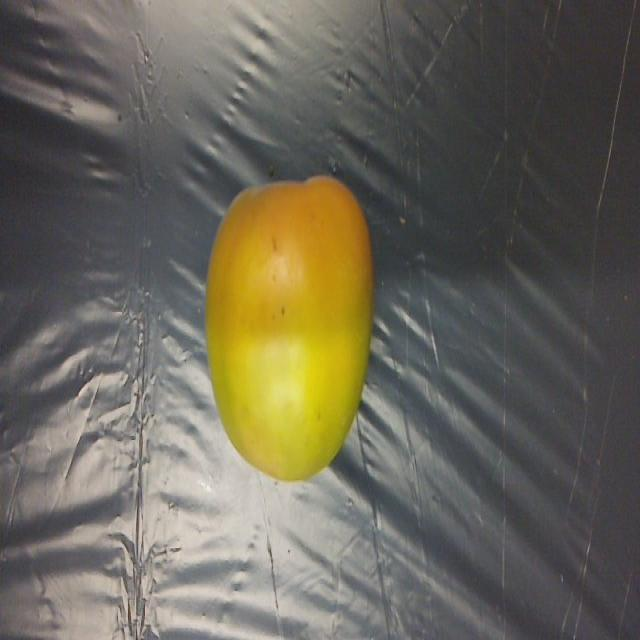sari: (184, 154, 389, 510)
